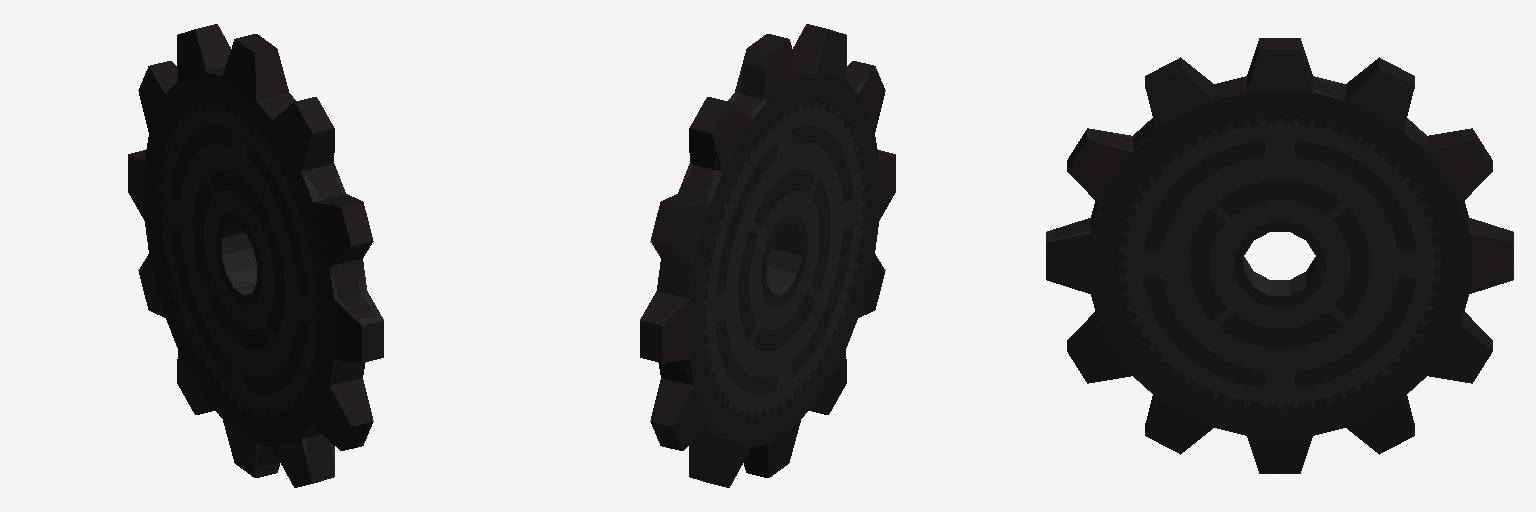
The picture shows the model from 3 angles: view 1: azimuth 30°, elevation 25°; view 2: azimuth 150°, elevation 25°; view 3: azimuth 270°, elevation 25°; orthographic projection.
Parts seen in each view (by area): view 1: GearLowPoly; view 2: GearLowPoly; view 3: GearLowPoly.
Boxes of the visible parts, x1=… form: GearLowPoly: x1=128, y1=24, x2=383, y2=487; GearLowPoly: x1=640, y1=24, x2=895, y2=487; GearLowPoly: x1=1046, y1=38, x2=1513, y2=473.
Size of the model in its own units: 0.3489 by 4.25 by 4.25.
1 materials, 1 textured.